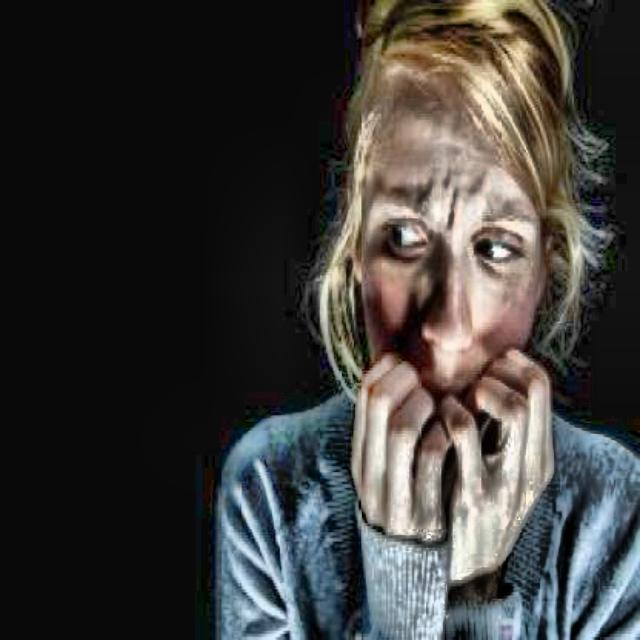fear: (305, 9, 605, 458)
